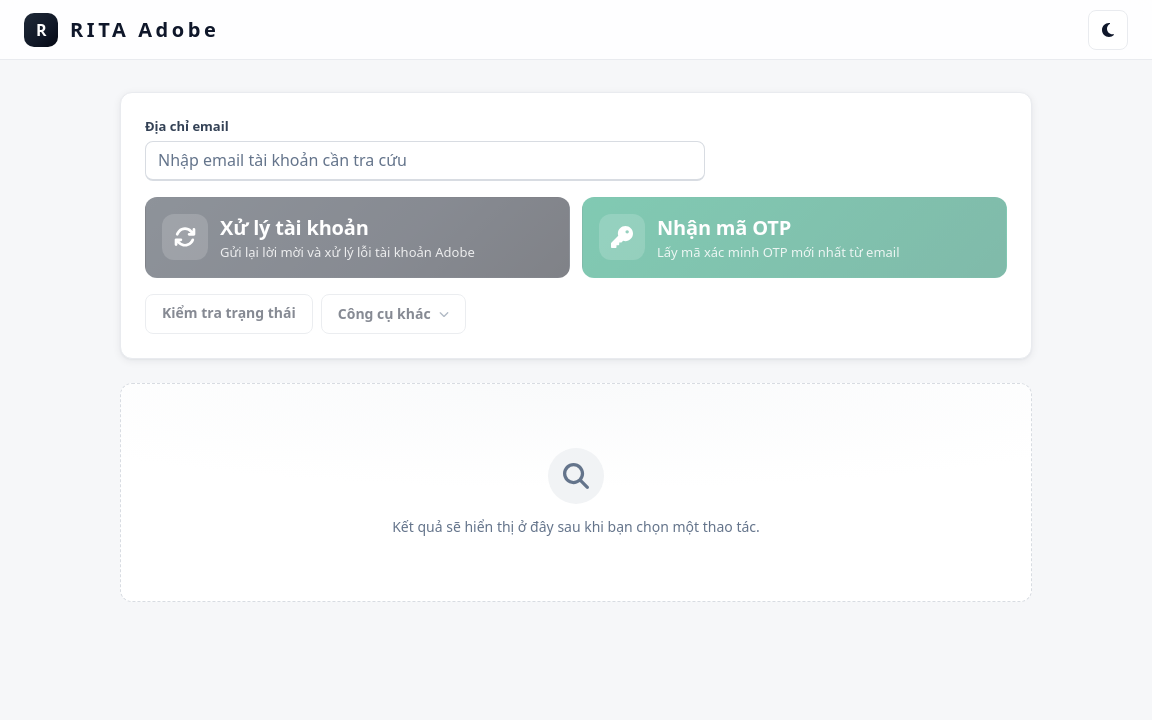
Test: DashboardPage - result routing (Req 12.3, 12.4) › routes a successful account status result into its panel (readable Vietnamese)
Type "user@example.com" into the field named "Email address".
click(425, 160); type("user@example.com")  # box [145,140,705,180]
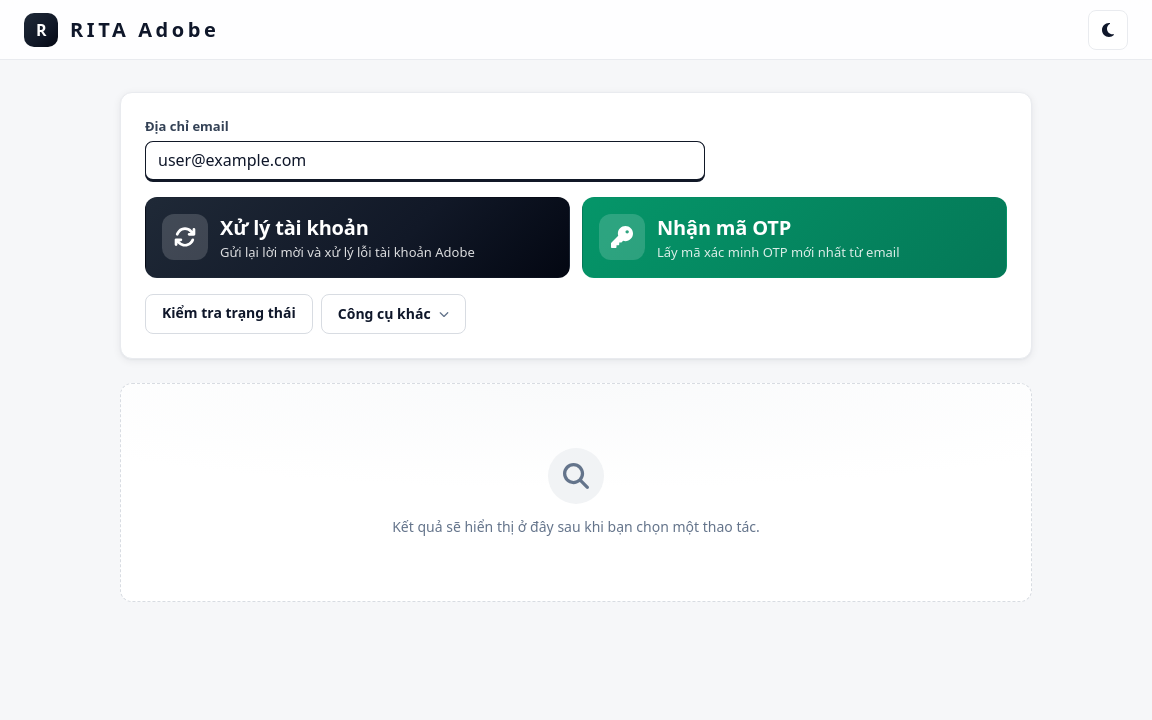
Expected: the button "Kiểm tra trạng thái" is enabled
Click the button "Kiểm tra trạng thái".
click(229, 314)  # box [145,294,313,334]
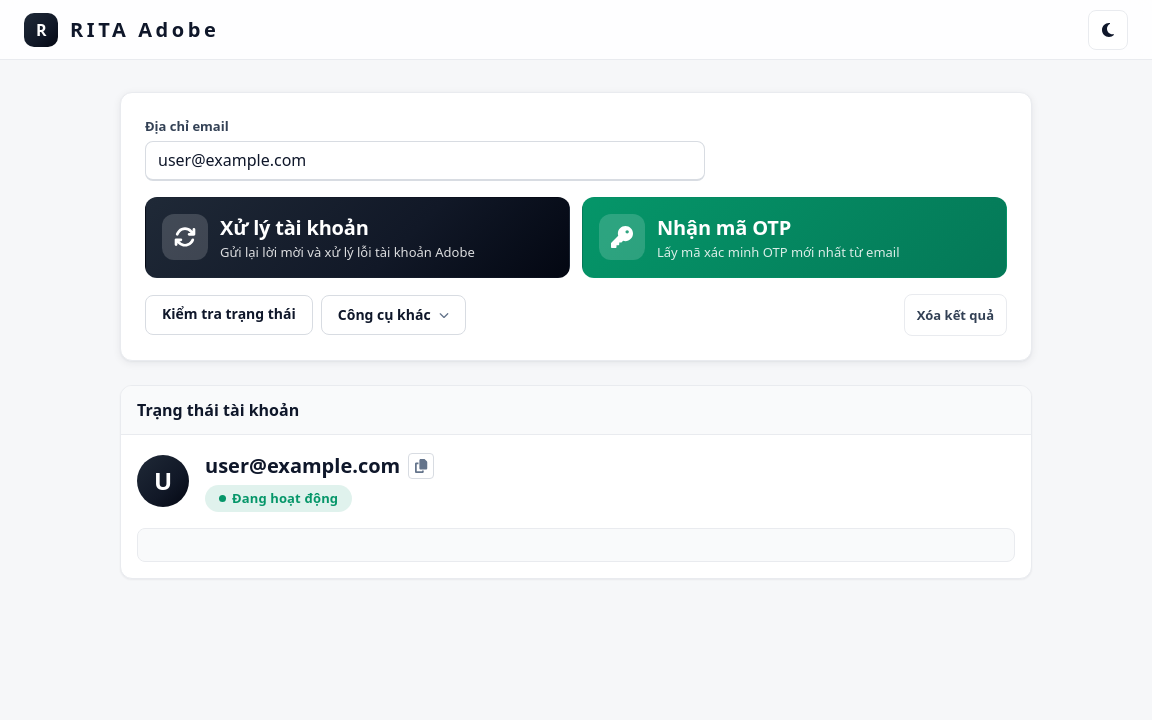
Expected: the text with test id "account-status-badge" reads "Đang hoạt động", [232,489,338,507]
Expected: the text with test id "account-email" reads "user@example.com", [205,452,400,479]
